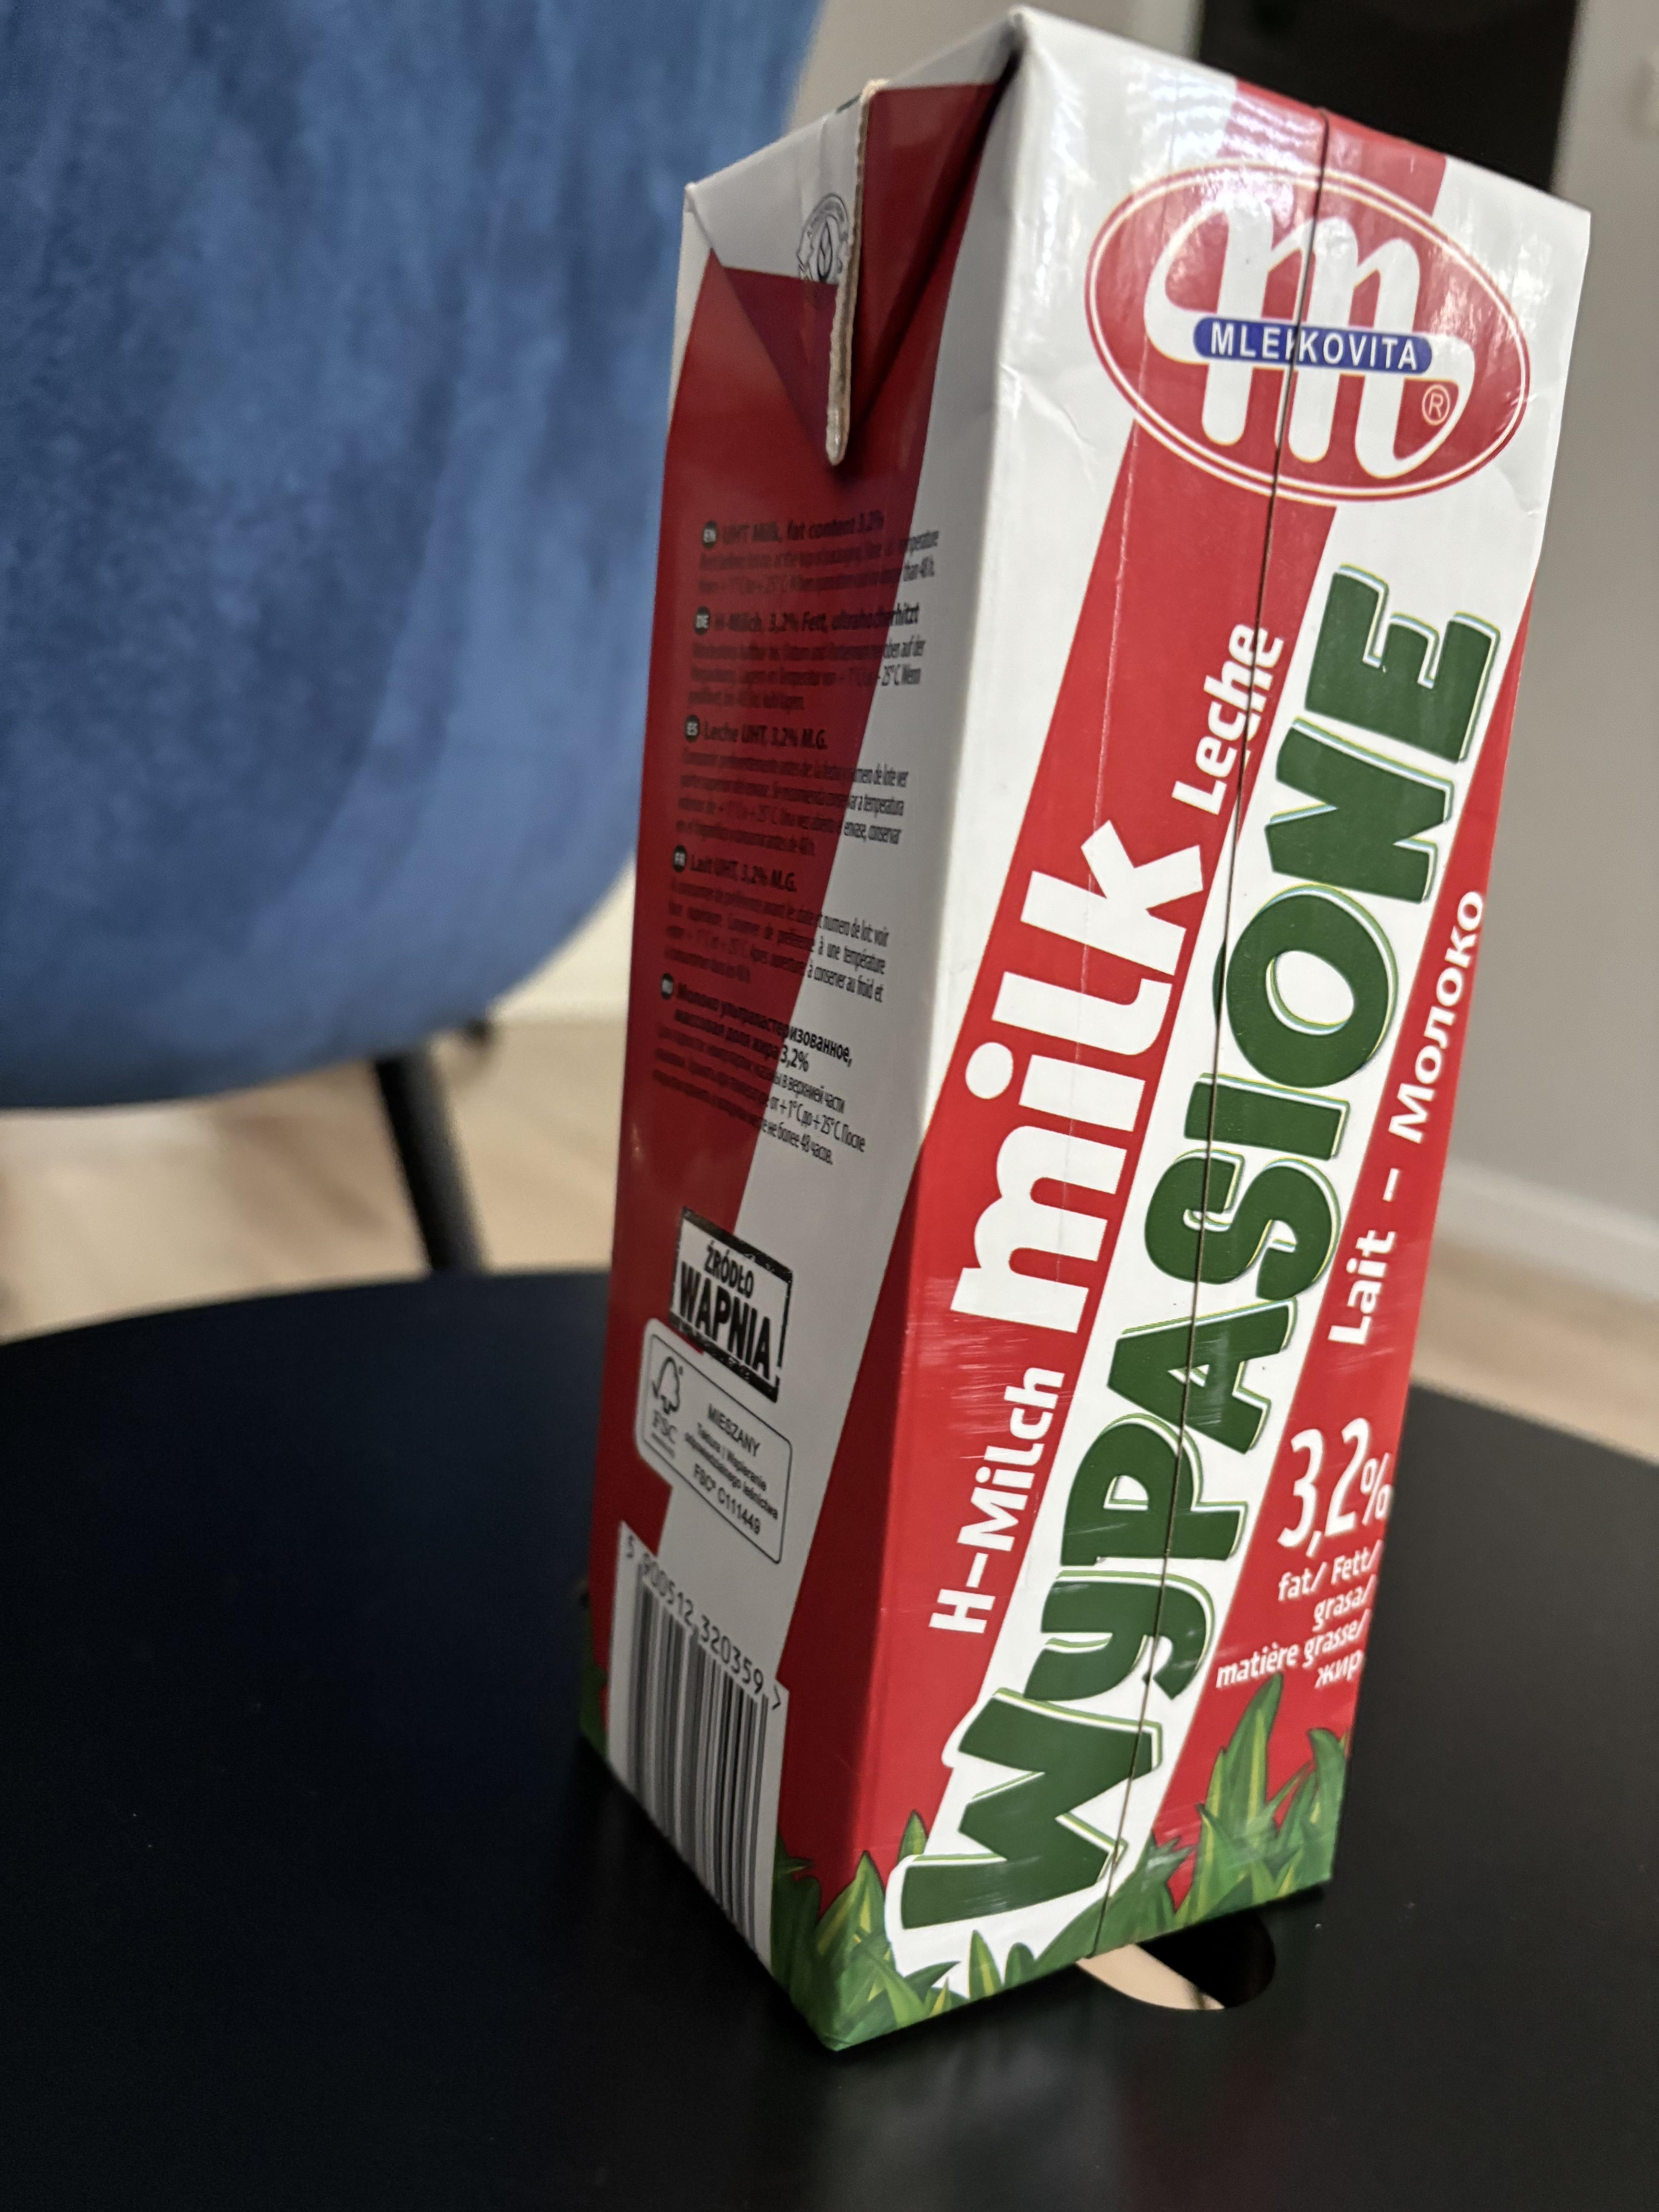Milk: (673, 136, 1422, 1952)
